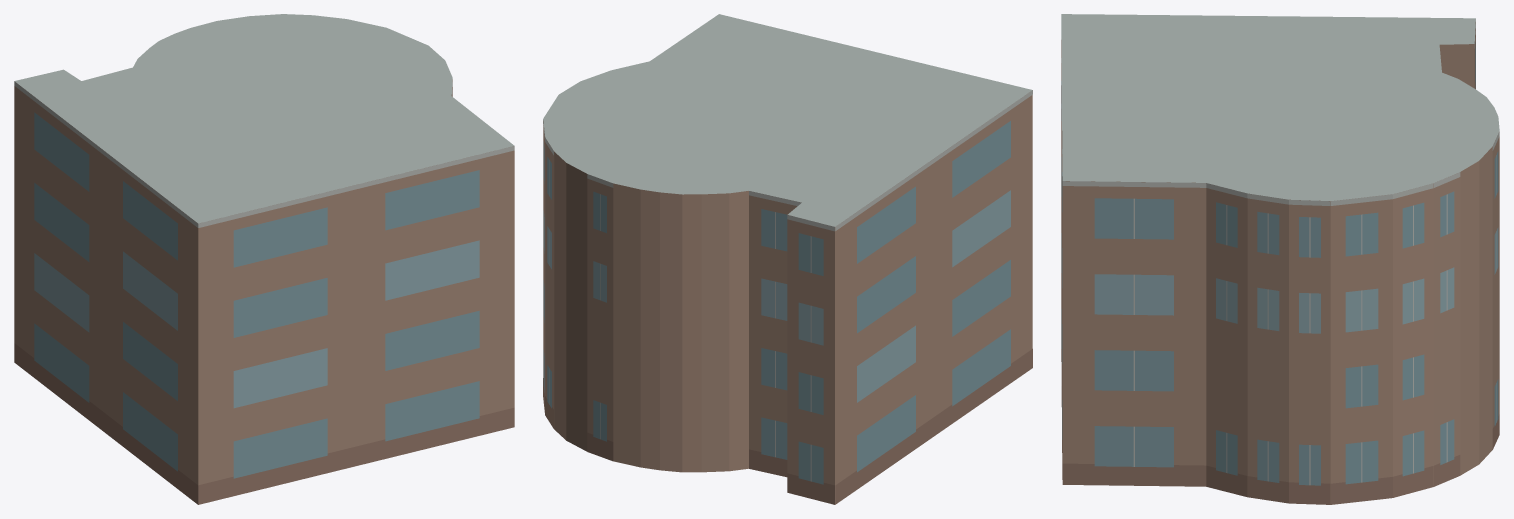
Rendered from survey-upis-32462234.glb.
The picture shows the model from 3 angles, left to right: view 1: azimuth 30°, elevation 25°; view 2: azimuth 150°, elevation 25°; view 3: azimuth 270°, elevation 25°; orthographic projection. The views are drawn at different scales.
Parts seen in each view (by area): view 1: survey-upis-32462234.tmp; view 2: survey-upis-32462234.tmp; view 3: survey-upis-32462234.tmp.
Part boxes in pixels (x1,y1,x2,y2): survey-upis-32462234.tmp: [14, 14, 514, 504]; survey-upis-32462234.tmp: [543, 14, 1032, 504]; survey-upis-32462234.tmp: [1061, 14, 1499, 504].
Bounding box in the file's own units: 19.7 × 14.9 × 19.5.
